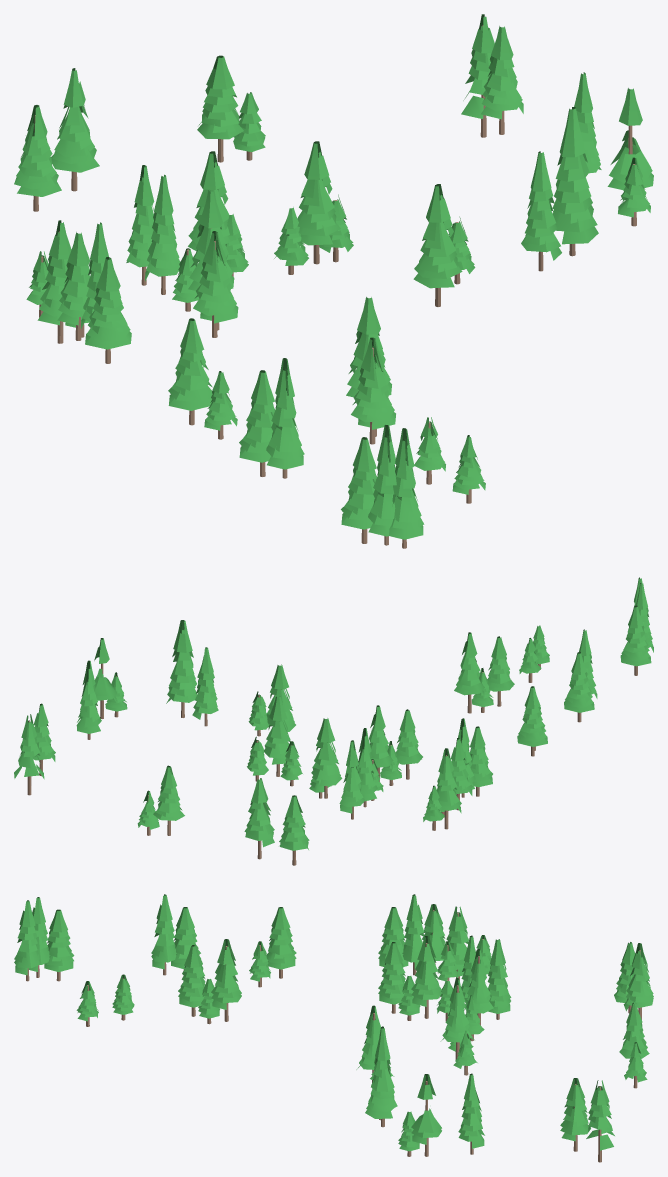
Rendered from trees.fbx.
3 renders of one model, top to bottom at view 1: azimuth 30°, elevation 25°; view 2: azimuth 150°, elevation 25°; view 3: azimuth 270°, elevation 25°, orthographic. The views are drawn at different scales.
Parts seen in each view (by area): view 1: Object_9, Object_11; view 2: Object_9, Object_11; view 3: Object_9, Object_11.
Part boxes in pixels (box(x1,y1,x2,y2)): Object_9: box(14, 14, 653, 539); Object_11: box(33, 25, 636, 548); Object_9: box(14, 577, 653, 850); Object_11: box(27, 663, 637, 865); Object_9: box(14, 894, 653, 1151); Object_11: box(26, 910, 641, 1162).
Bounding box in the file's own units: 1330 × 351 × 1844.
